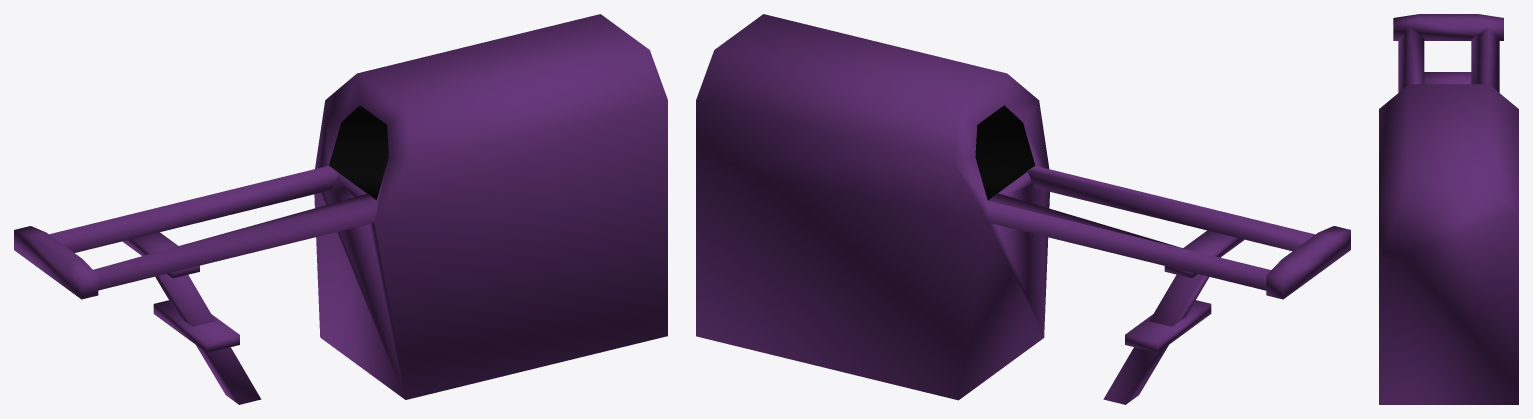
The model's file is BallDispenser.fbx.
The picture shows the model from 3 angles, left to right: view 1: azimuth 30°, elevation 25°; view 2: azimuth 150°, elevation 25°; view 3: azimuth 270°, elevation 25°; orthographic projection. The views are drawn at different scales.
Visible parts, largest first — view 1: Cube.040, Cube.039; view 2: Cube.040, Cube.039; view 3: Cube.040.
Boxes of the visible parts, box(x1,y1,x2,y2) form: Cube.040: box(14, 14, 667, 404); Cube.039: box(329, 105, 388, 199); Cube.040: box(696, 14, 1350, 404); Cube.039: box(975, 105, 1035, 200); Cube.040: box(1379, 14, 1518, 404).
Size of the model in its own units: 3.87 by 1.75 by 0.9922.
